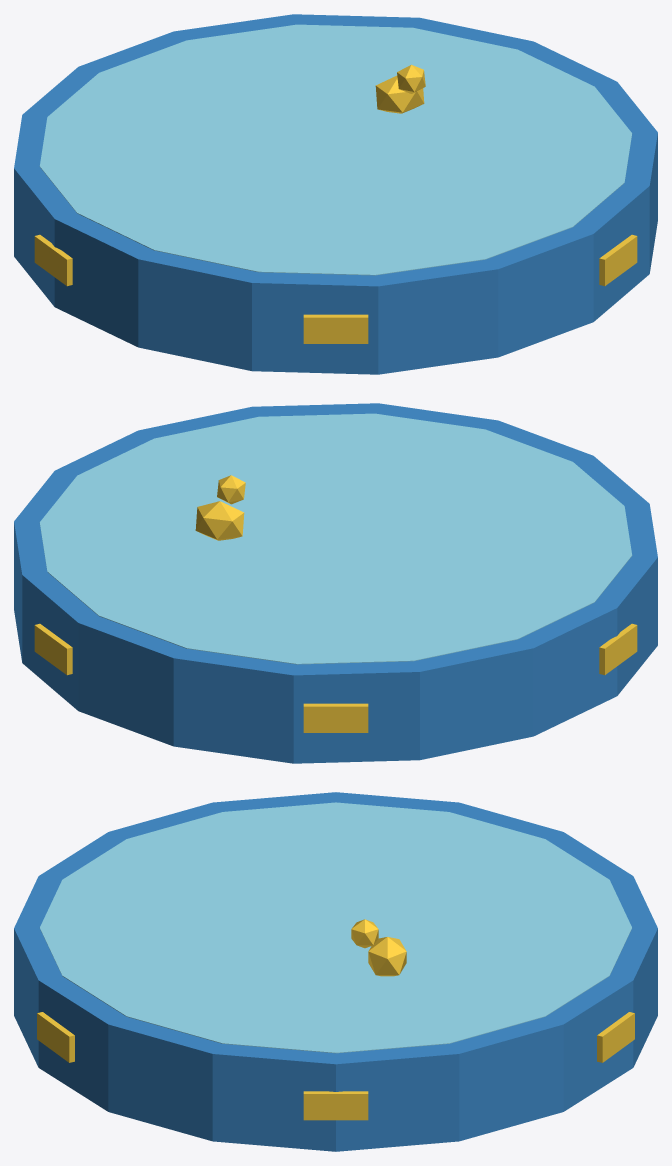
File: kiddie-pool.glb
3 renders of one model, top to bottom at view 1: azimuth 30°, elevation 25°; view 2: azimuth 150°, elevation 25°; view 3: azimuth 270°, elevation 25°, orthographic.
Parts seen in each view (by area): view 1: KiddiePool_Water, KiddiePool_Shell, KiddiePool_Fish; view 2: KiddiePool_Water, KiddiePool_Shell, KiddiePool_Fish; view 3: KiddiePool_Water, KiddiePool_Shell, KiddiePool_Fish.
Part boxes in pixels (box(x1,y1,x2,y2)): KiddiePool_Water: box(39, 24, 632, 275); KiddiePool_Shell: box(14, 14, 657, 374); KiddiePool_Fish: box(34, 64, 637, 343); KiddiePool_Water: box(39, 413, 632, 664); KiddiePool_Shell: box(14, 403, 657, 763); KiddiePool_Fish: box(34, 475, 637, 732); KiddiePool_Water: box(40, 802, 631, 1053); KiddiePool_Shell: box(14, 792, 657, 1151); KiddiePool_Fish: box(37, 919, 634, 1120).
Size of the model in its own units: 10.14 by 2.4 by 10.
